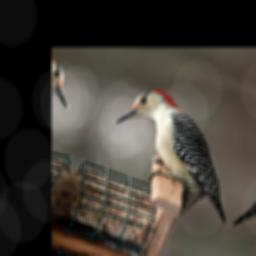Woodpecker: (91, 79, 256, 231)
